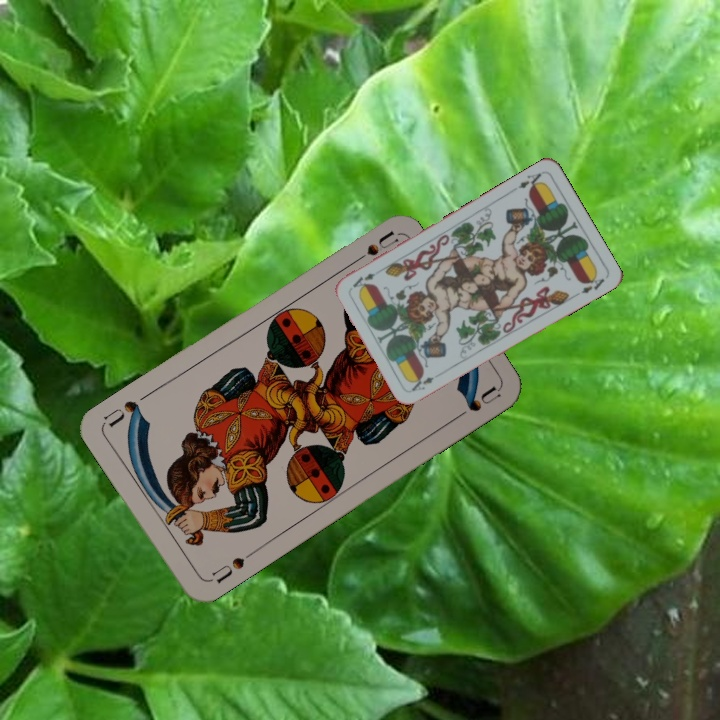EA: (508, 168, 545, 194), (407, 373, 436, 394)
SU: (344, 228, 400, 269), (204, 547, 257, 586)
